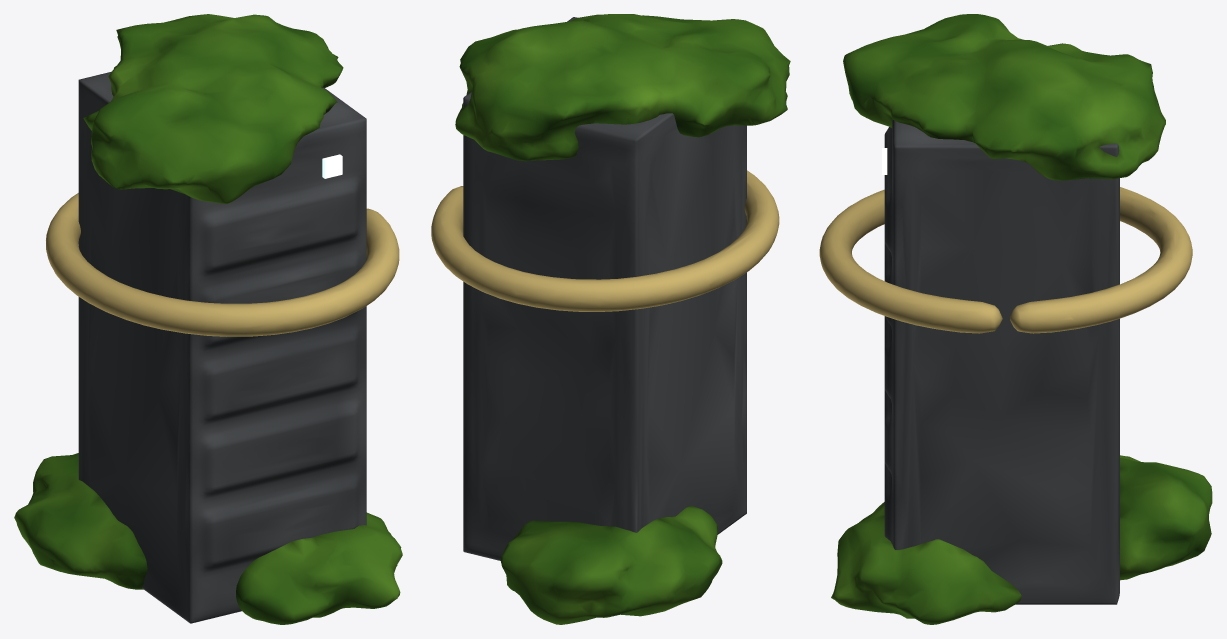
The model's file is machine_stone.glb.
3 renders of one model, left to right at view 1: azimuth 30°, elevation 25°; view 2: azimuth 150°, elevation 25°; view 3: azimuth 270°, elevation 25°, orthographic.
Parts seen in each view (by area): view 1: machine, moss, machine_rope; view 2: machine, moss, machine_rope; view 3: machine, moss, machine_rope.
Boxes of the visible parts, x1,y1,x2,y2 form: machine: [78, 71, 366, 623]; moss: [14, 14, 402, 624]; machine_rope: [46, 193, 399, 336]; machine: [463, 17, 746, 560]; moss: [455, 14, 790, 624]; machine_rope: [431, 170, 779, 311]; machine: [884, 119, 1119, 604]; moss: [831, 14, 1212, 624]; machine_rope: [819, 187, 1192, 333].
Size of the model in its own units: 1.35 by 2.34 by 1.55.
